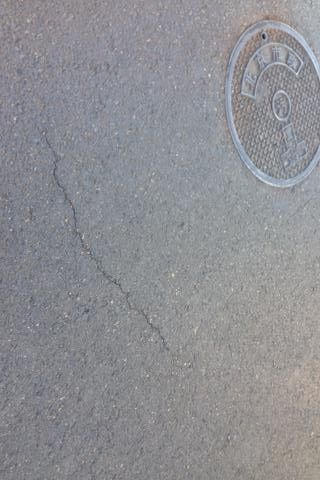A: (36, 132, 179, 353)
